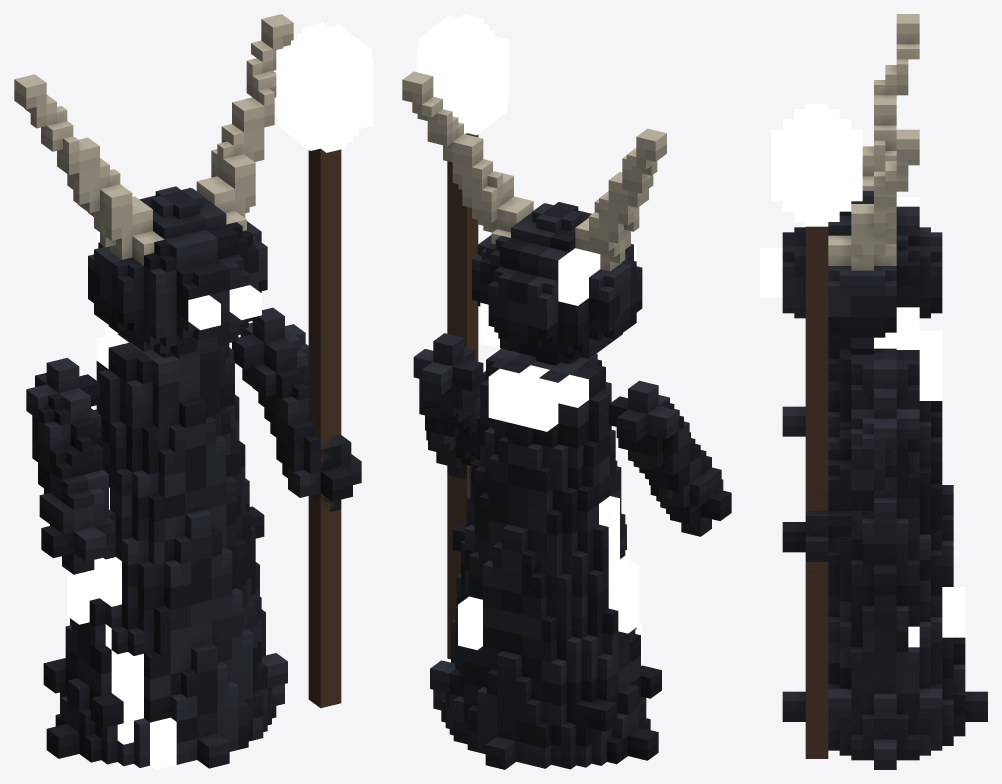
The model's file is u_chaman.glb.
The picture shows the model from 3 angles, left to right: view 1: azimuth 30°, elevation 25°; view 2: azimuth 150°, elevation 25°; view 3: azimuth 270°, elevation 25°; orthographic projection. The views are drawn at different scales.
Parts seen in each view (by area): view 1: chaman_body, chaman_weapon, chaman_weaponglow, chaman_glow; view 2: chaman_body, chaman_glow, chaman_weaponglow, chaman_weapon; view 3: chaman_body, chaman_weapon, chaman_weaponglow, chaman_glow.
Boxes of the visible parts, left/top/right/bottom form: chaman_body: left=14, top=14, right=361, bottom=768; chaman_weapon: left=308, top=148, right=341, bottom=708; chaman_weaponglow: left=276, top=23, right=373, bottom=152; chaman_glow: left=67, top=230, right=261, bottom=769; chaman_body: left=402, top=71, right=731, bottom=769; chaman_glow: left=458, top=242, right=642, bottom=665; chaman_weaponglow: left=416, top=14, right=508, bottom=135; chaman_weapon: left=447, top=133, right=478, bottom=659; chaman_body: left=782, top=14, right=987, bottom=769; chaman_weapon: left=805, top=226, right=828, bottom=758; chaman_weaponglow: left=771, top=104, right=862, bottom=226; chaman_glow: left=760, top=197, right=965, bottom=647.
Bounding box in the file's own units: 0.775 × 1.6 × 0.5.
